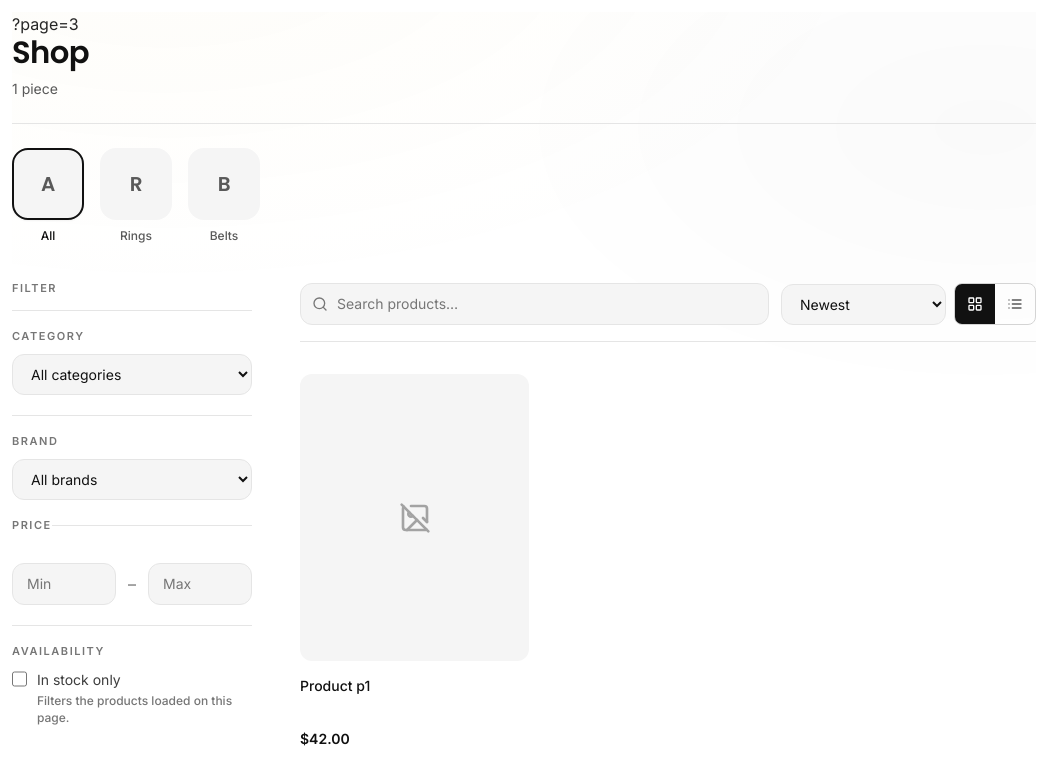
Test: Products (PLP) › changing a filter resets pagination to the first page
Expected: the link "Product p1" is shown, [300, 677, 370, 694]
Select "Rings" in the dropdown named "All categories" at (132, 375), box [12, 354, 252, 396]
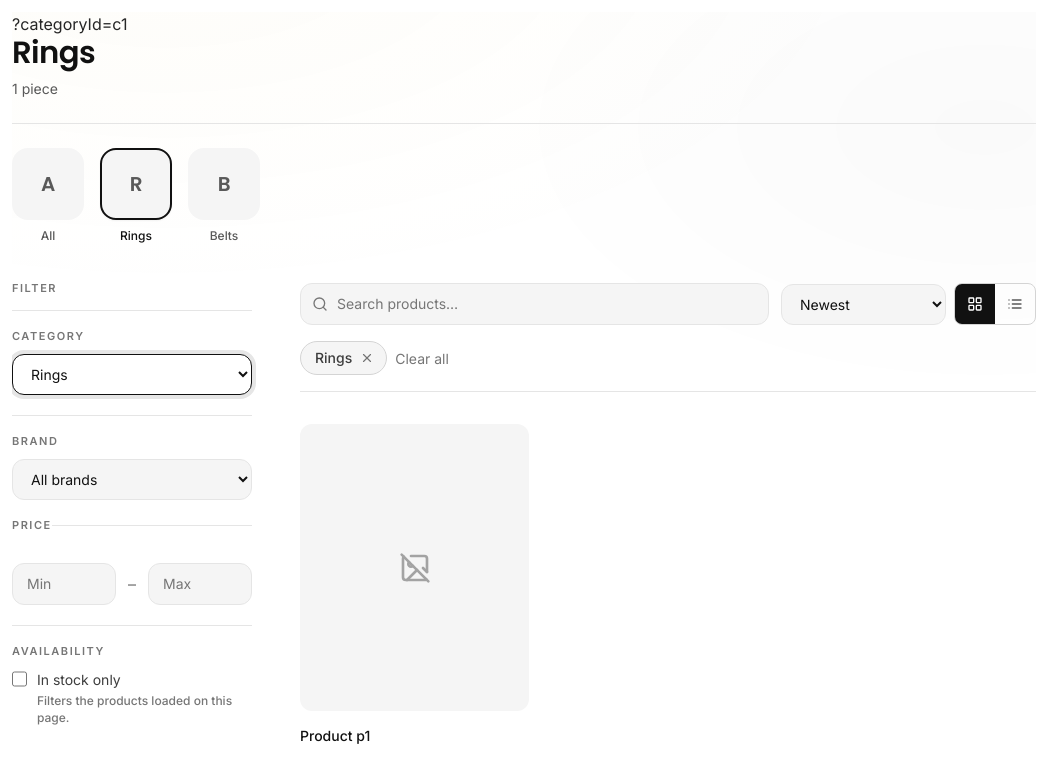
Expected: the text with test id "loc-search" no longer shows "page=3"
Expected: the text with test id "loc-search" shows "categoryId=c1", [12, 14, 127, 34]
